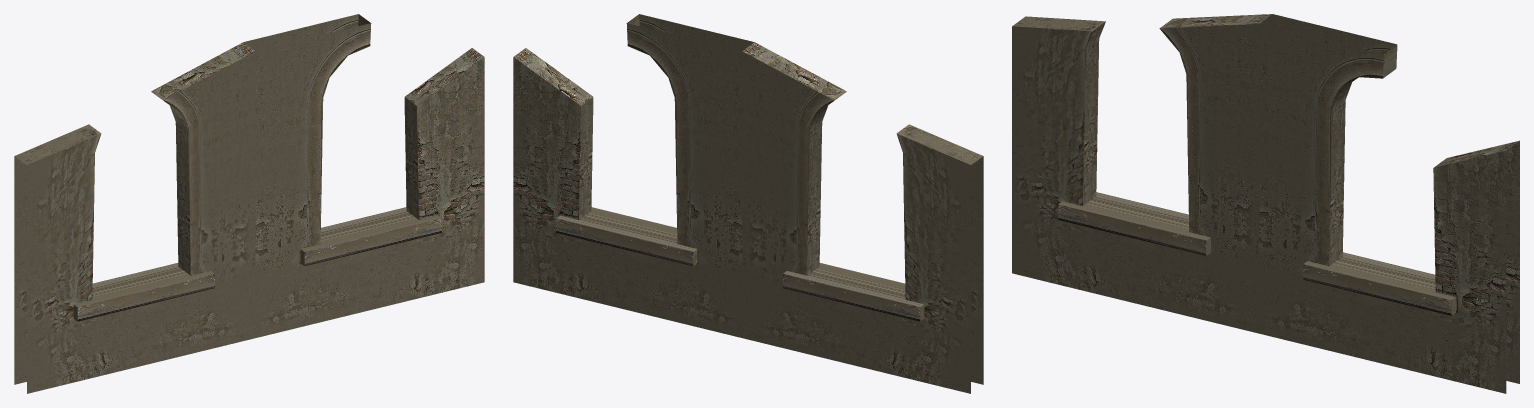
The model's file is fenster_durch2.obj.
The picture shows the model from 3 angles, left to right: view 1: azimuth 30°, elevation 25°; view 2: azimuth 150°, elevation 25°; view 3: azimuth 330°, elevation 25°; orthographic projection. The views are drawn at different scales.
Visible parts, largest first — view 1: polySurface165; view 2: polySurface165; view 3: polySurface165.
Boxes of the visible parts, x1,y1,x2,y2 form: polySurface165: (14, 14, 484, 393); polySurface165: (513, 14, 983, 393); polySurface165: (1012, 14, 1519, 393).
Size of the model in its own units: 2 by 1.2 by 0.1556.
1 material, 1 textured.
